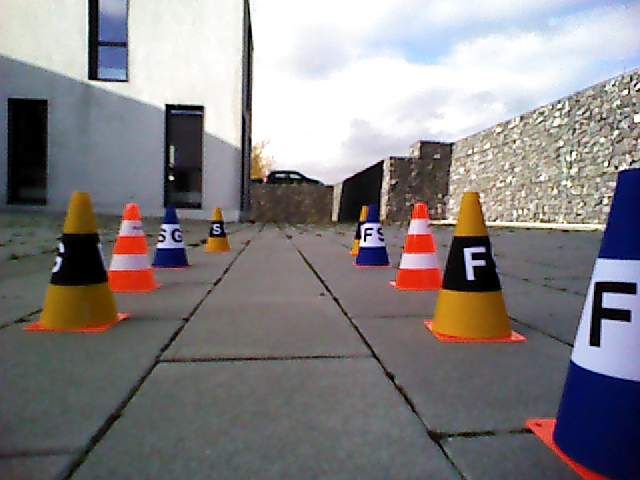bluecone: (556, 168, 639, 480), (153, 202, 190, 267), (355, 207, 390, 264)
orangeconesmall: (111, 202, 157, 289), (397, 201, 440, 287)
yellowcone: (434, 192, 509, 340), (41, 190, 117, 329), (207, 206, 230, 250)
